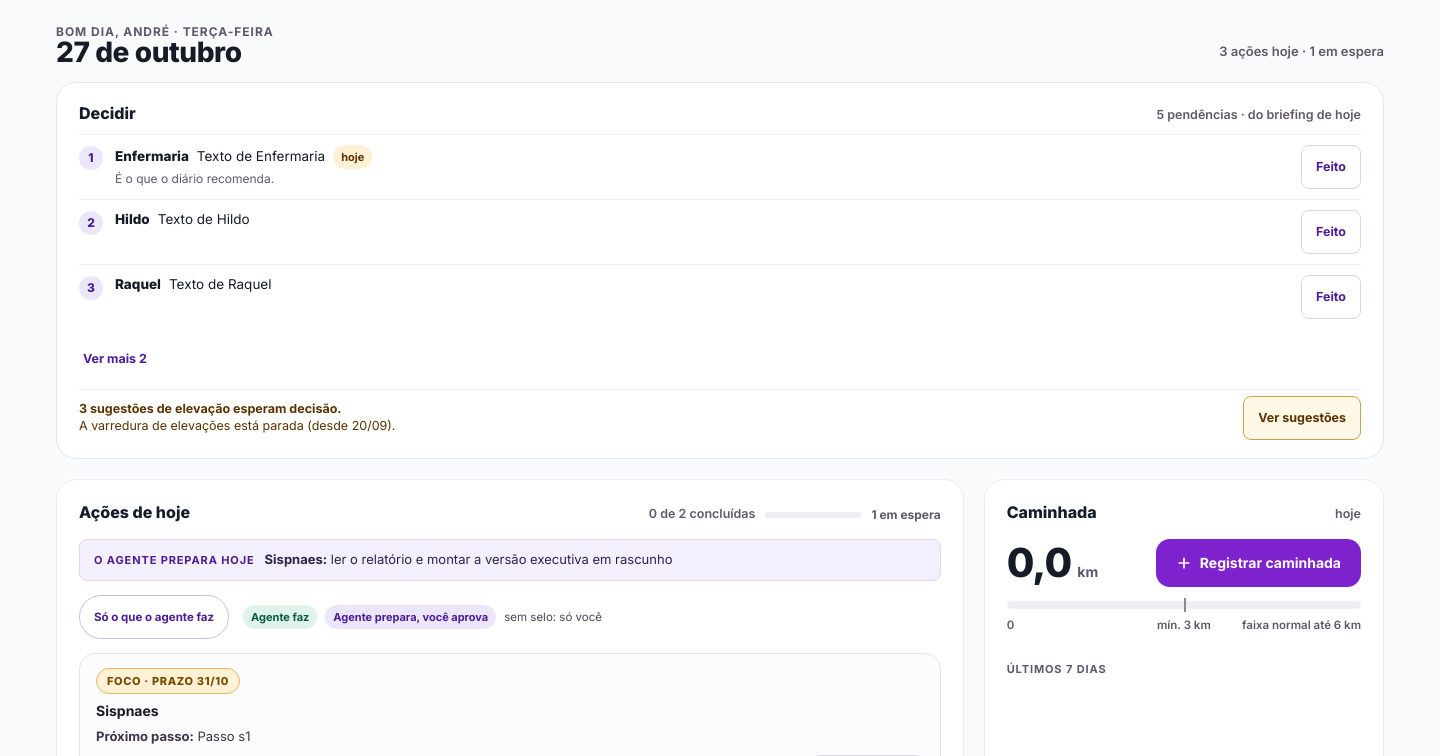
Test: Painel do dia — sugestões de elevação › "Ver sugestões" abre os cards (só as pendentes) com Aceitar e Descartar
Click the button "Ver sugestões" at (1302, 418), box [1243,396,1361,440]
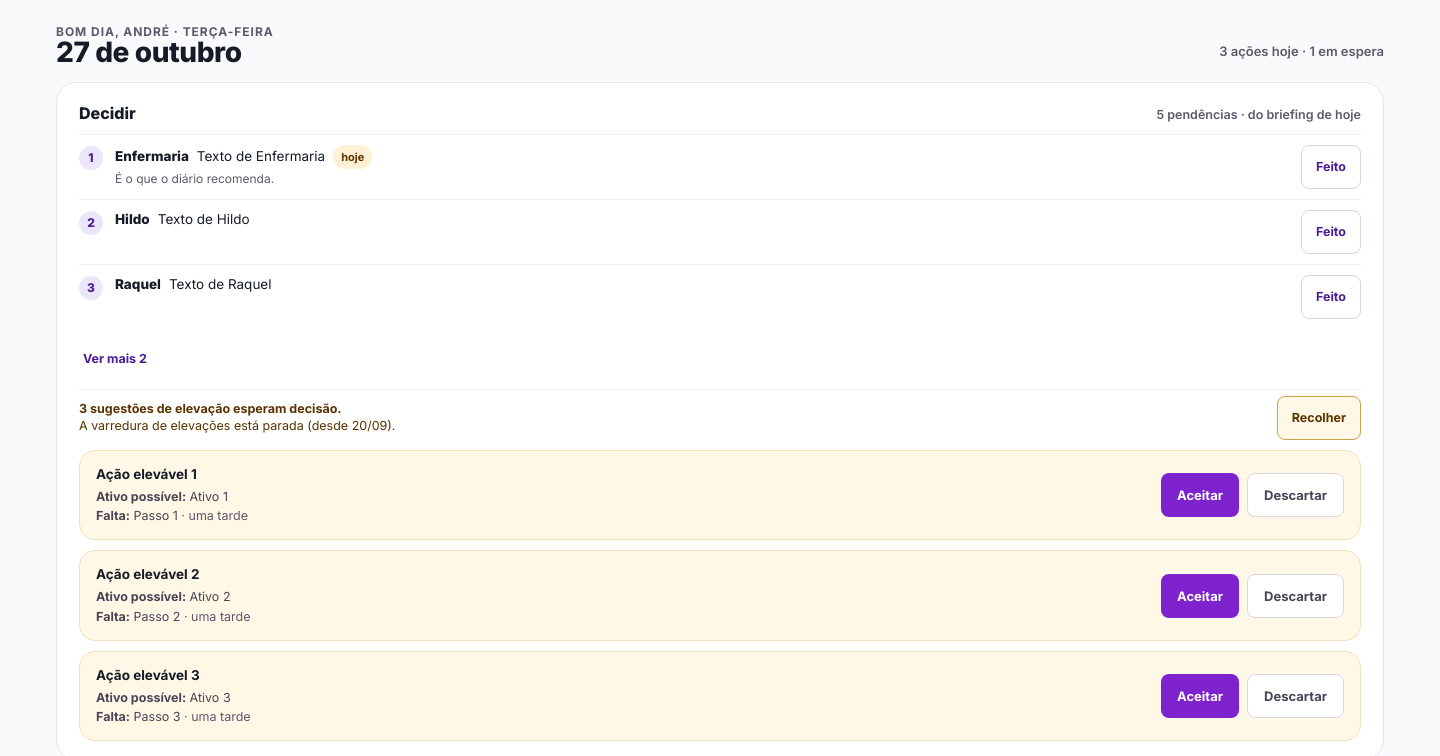
Now the button named "Ver sugestões" is expanded, box [1277,396,1361,440]
Now the number of elements with test id "card-elevacao" is 3, box [79,450,1361,540]; [79,550,1361,641]; [79,651,1361,741]
Now the element with test id "card-elevacao" shows "Ação elevável 1", box [96,467,197,483]
